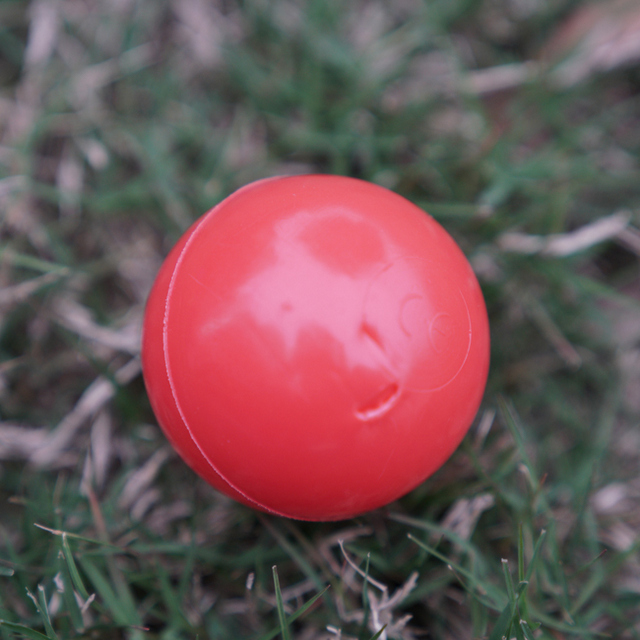Ball: (147, 175, 491, 514)
